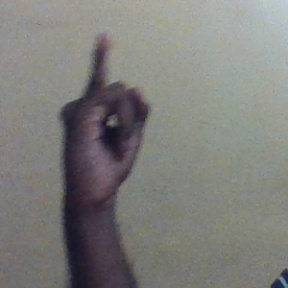I: (59, 29, 146, 188)
